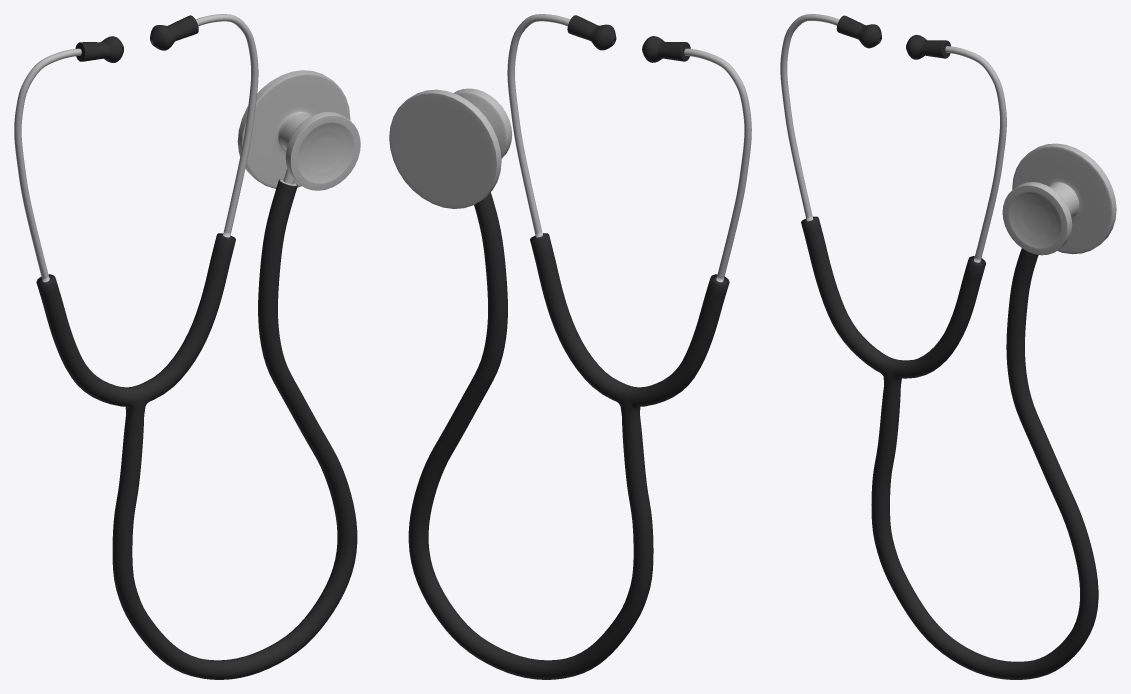
The model's file is Ongnghe.fbx.
The picture shows the model from 3 angles, left to right: view 1: azimuth 30°, elevation 25°; view 2: azimuth 150°, elevation 25°; view 3: azimuth 330°, elevation 25°; orthographic projection. The views are drawn at different scales.
Visible parts, largest first — view 1: Ongnghe; view 2: Ongnghe; view 3: Ongnghe.
Part boxes in pixels (x1,y1,x2,y2): Ongnghe: (14,14,360,679); Ongnghe: (389,14,751,679); Ongnghe: (780,14,1116,679).
Bounding box in the file's own units: 9.52 × 17.63 × 1.63.
Materials: 1 (1 with a texture image).
